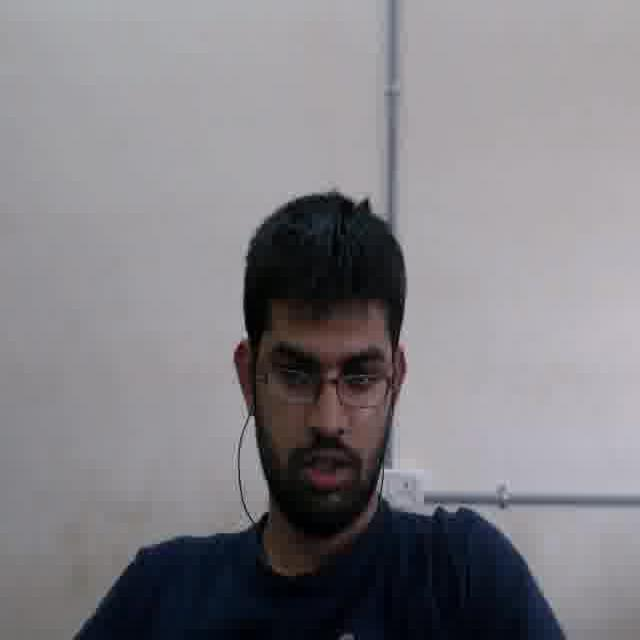Engaged: (252, 292, 389, 519)
